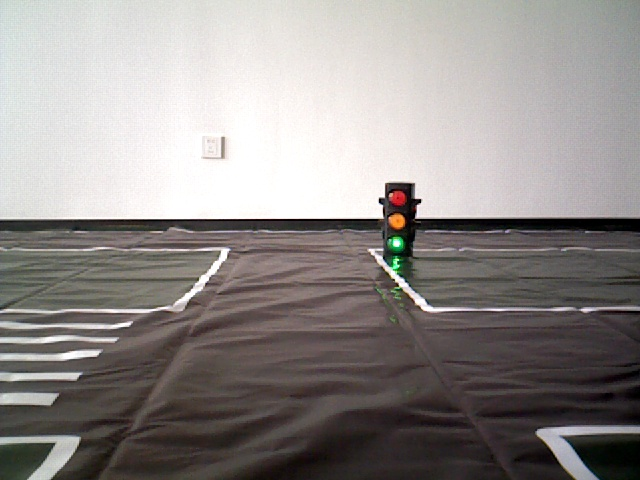green: (390, 183, 411, 253)
